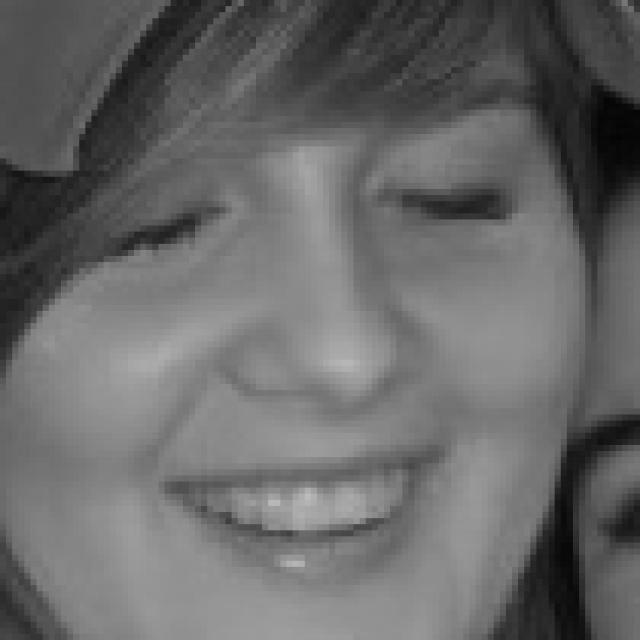real: (6, 8, 592, 637), (72, 142, 530, 283)
